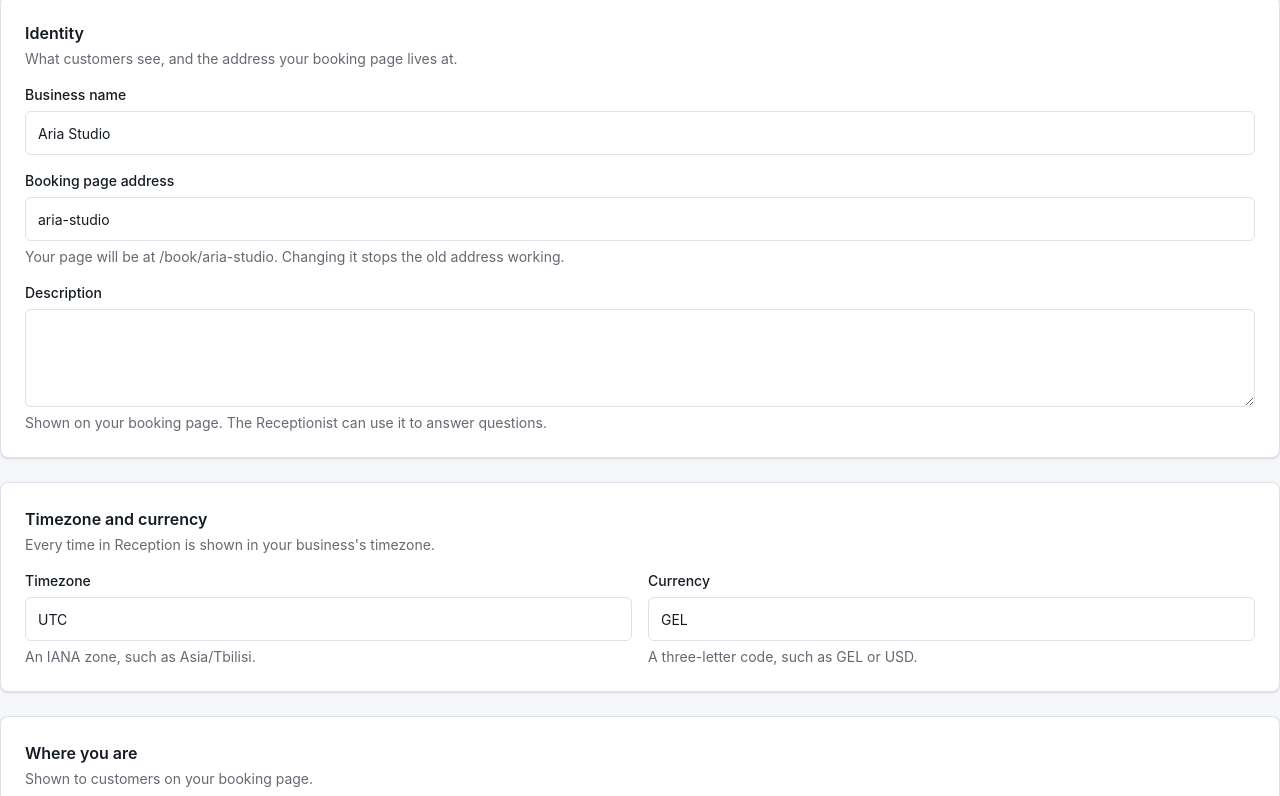
Test case: ProfileForm, refused › shows the message the server sent when the refusal names no field
The image size is (1280, 796).
Replace the text in the field labelled "Business name" with "Aria Salon" at coordinates (640, 133), box [25,111,1255,155]
(page scrolled)
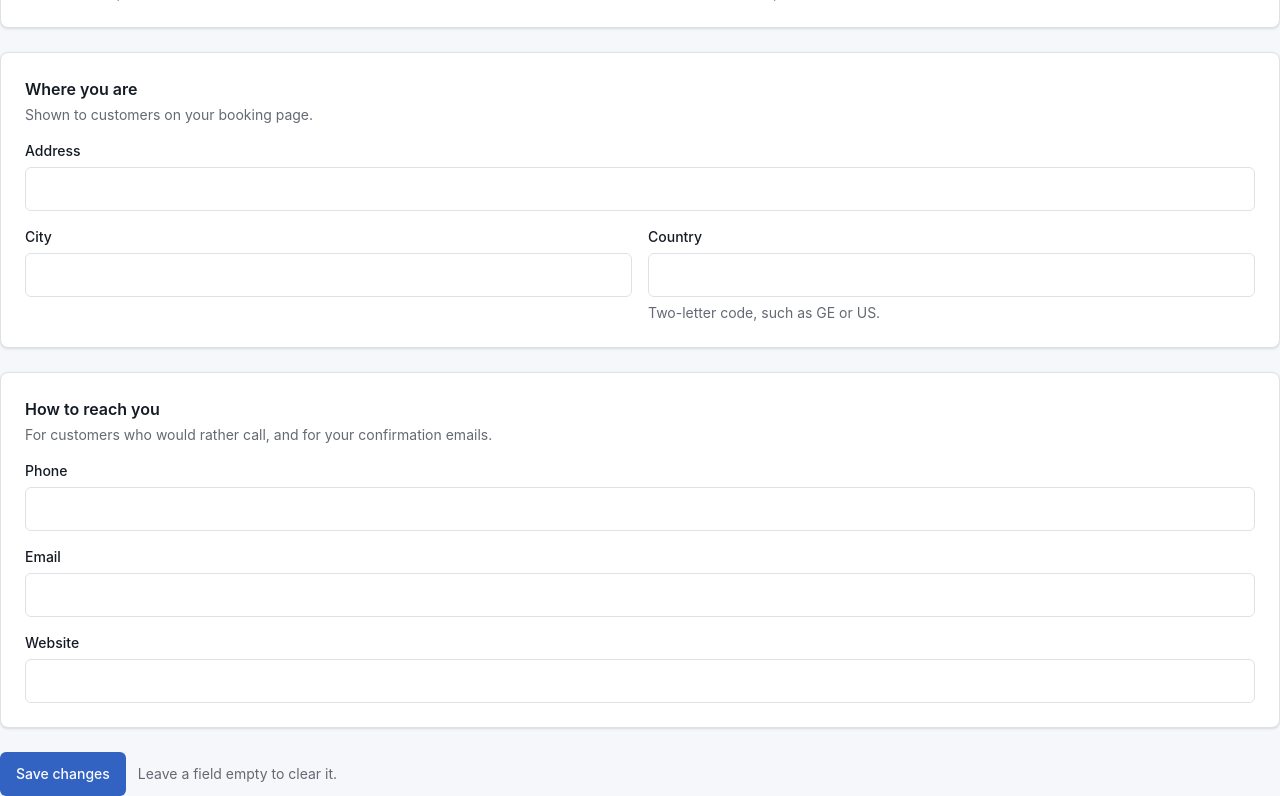
Click the button "Save changes".
click(63, 774)  # box [0,752,126,795]
(page scrolled)
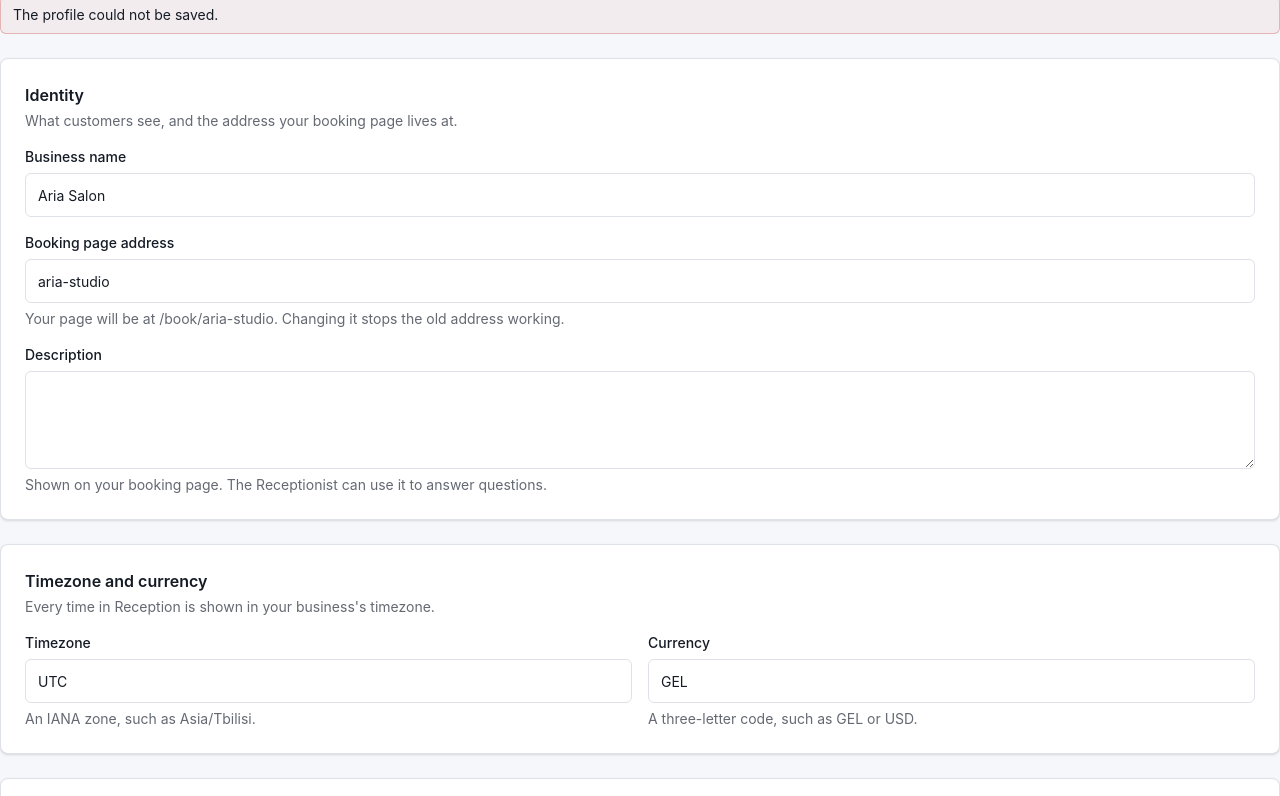
expect the message reads "The profile could not be saved.": met, box [13,6,218,23]
